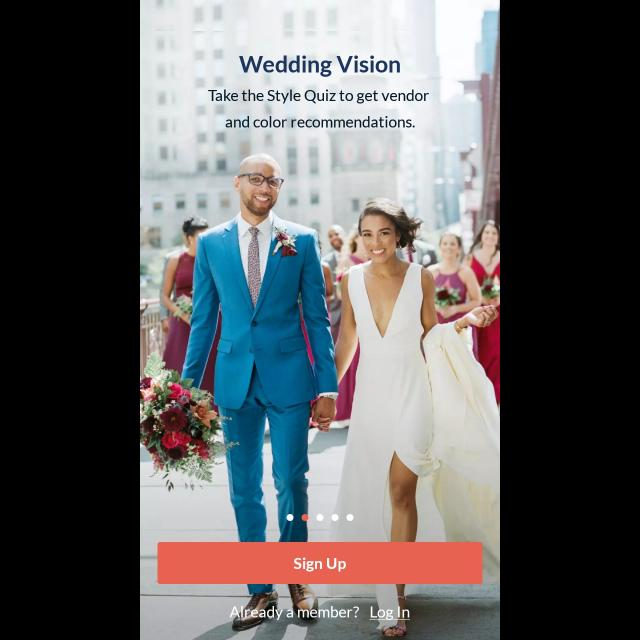backgroundimage: (140, 1, 500, 640)
pageindicator: (286, 514, 354, 522)
text: (208, 90, 430, 128), (240, 55, 400, 77), (229, 606, 359, 620), (370, 606, 410, 620)
textbutton: (158, 542, 482, 584)
